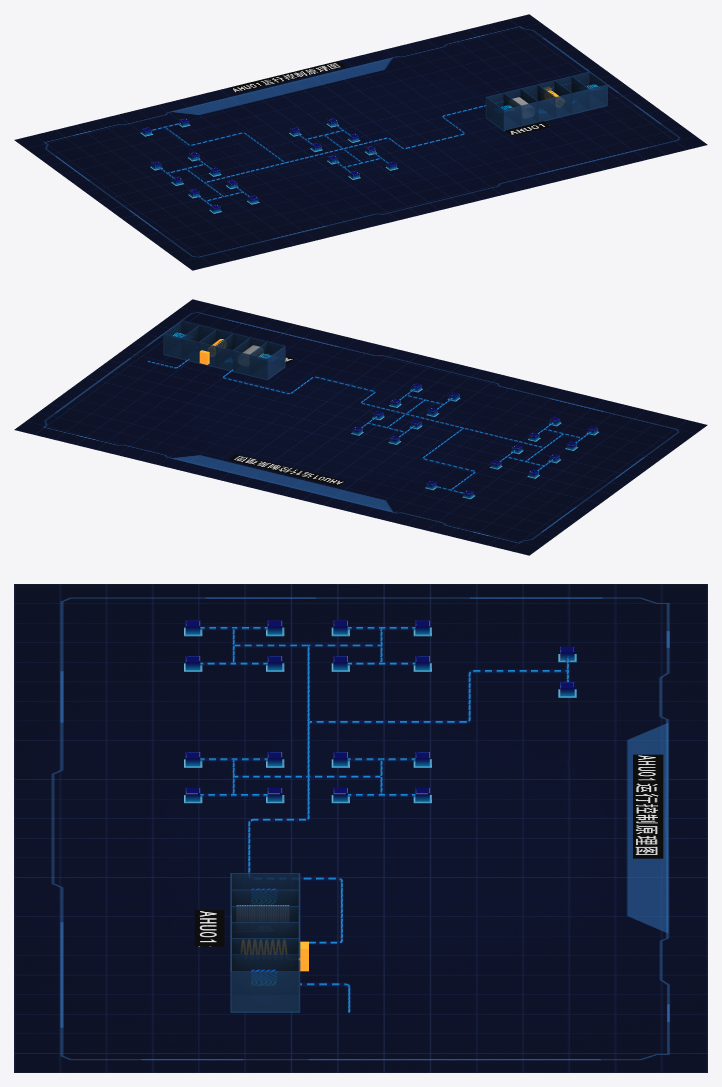
The model's file is AHU01.FBX.
3 views of the same model, one above another, from view 1: azimuth 30°, elevation 25°; view 2: azimuth 150°, elevation 25°; view 3: azimuth 270°, elevation 25° (orthographic). The views are drawn at different scales.
Parts seen in each view (by area): view 1: BG, MAU_Body, AHU01_Pipe, Outlet292, AHU01_Wind, RoomName; view 2: BG, MAU_Body, AHU01_Pipe, Outlet292, AHU01_Wind, RoomName; view 3: BG, MAU_Body, AHU01_Pipe, Outlet292, RoomName, AHU01_Wind, Coil.
Boxes of the visible parts, box(x1,y1,x2,y2) form: BG: box(14, 14, 707, 270); MAU_Body: box(485, 71, 607, 131); AHU01_Pipe: box(152, 105, 485, 205); Outlet292: box(140, 118, 398, 213); AHU01_Wind: box(152, 105, 485, 205); RoomName: box(228, 61, 550, 135); BG: box(14, 299, 707, 555); MAU_Body: box(163, 320, 285, 380); AHU01_Pipe: box(148, 358, 590, 493); Outlet292: box(351, 383, 598, 499); AHU01_Wind: box(147, 359, 590, 493); RoomName: box(229, 352, 345, 486); BG: box(14, 584, 707, 1072); MAU_Body: box(230, 873, 300, 1012); AHU01_Pipe: box(200, 626, 569, 1012); Outlet292: box(184, 620, 576, 803); RoomName: box(194, 754, 663, 946); AHU01_Wind: box(200, 627, 568, 1012); Coil: box(236, 905, 289, 921).
Size of the model in its own units: 250 by 14.04 by 150.
